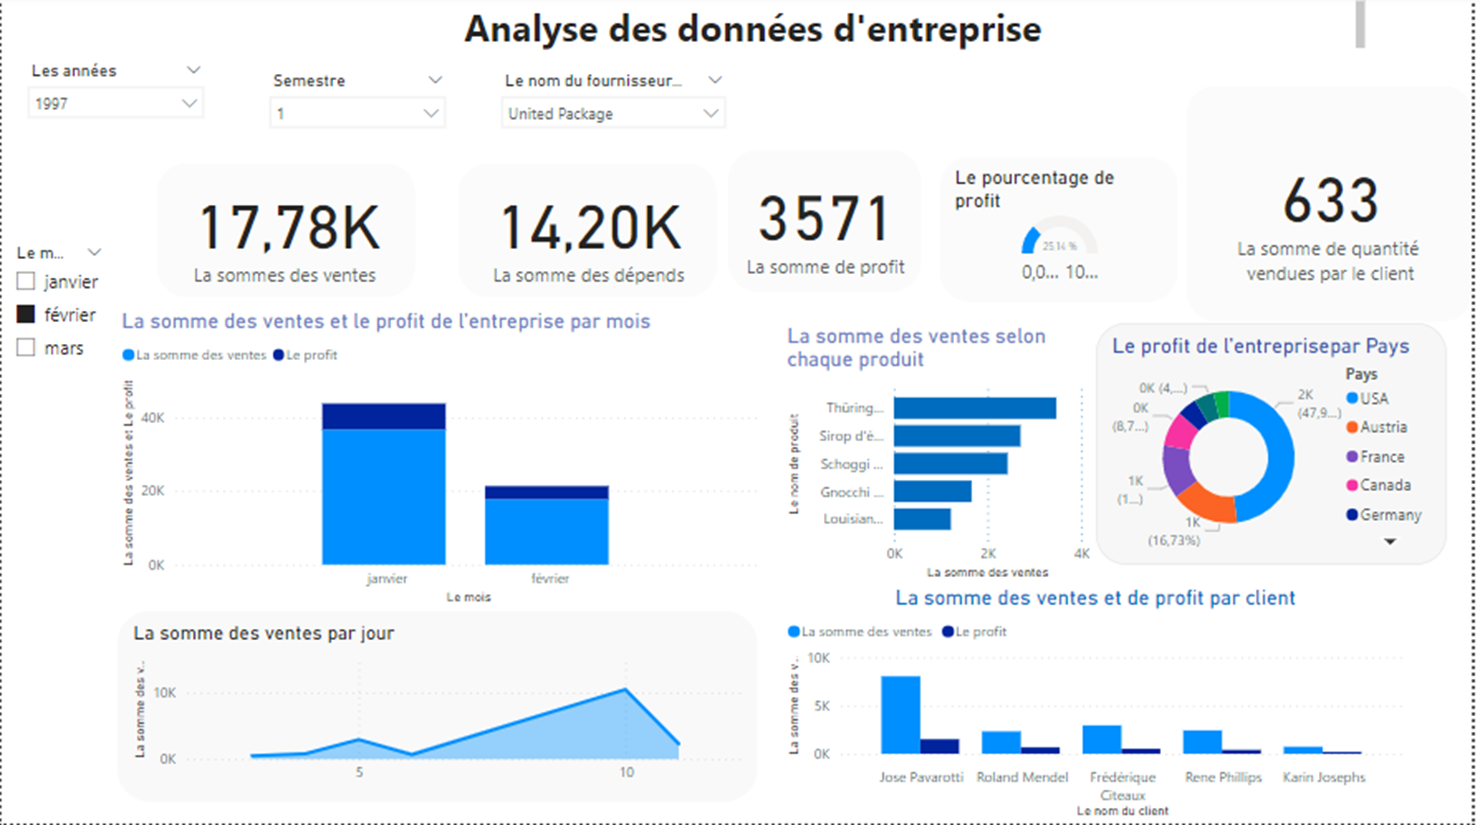

The page's visual inventory and layout, read from the dashboard file:
{"tool":"powerbi","page":{"name":"Page 2","canvas":[1280,720],"ordinal":0},"visuals":[{"type":"slicer","fields":{"Values":["dwolap temps_id.Year_id"]},"box":[13.3,51.7,173.3,81.7],"z":0},{"type":"slicer","fields":{"Values":["dwolap temps_id.Quarter"]},"box":[223.3,60,173.3,66.7],"z":1000},{"type":"slicer","fields":{"Values":["dwolap temps_id.Month_name"]},"box":[0,210,100,378.3],"z":2000},{"type":"slicer","fields":{"Values":["dwolap shippers.ShipperName"]},"box":[425,60,215,66.7],"z":3000},{"type":"card","fields":{"Values":["mesures.Total_sales"]},"box":[133.3,145,226.7,118.3],"z":4000},{"type":"gauge","fields":{"Y":["mesures.profit marge"]},"box":[830,130,208.3,128.3],"z":5000},{"type":"card","fields":{"Values":["mesures.profite"]},"box":[630,133.3,170,125],"z":6000},{"type":"card","fields":{"Values":["mesures.total_Costs"]},"box":[396.7,145,226.7,118.3],"z":7000},{"type":"card","fields":{"Values":["Sum(dwolap order_fact.qunProduit)"]},"box":[1053.3,130,226.7,133.3],"z":8000},{"type":"columnChart","fields":{"Category":["dwolap temps_id.Month_name"],"Y":["mesures.Total_sales","mesures.profite"]},"box":[100,271.7,566.7,261.7],"z":9000},{"type":"clusteredBarChart","fields":{"Category":["dwolap products.ProductName"],"Y":["mesures.Total_sales"]},"box":[678.3,285,273.3,228.3],"z":10000},{"type":"stackedAreaChart","fields":{"Y":["mesures.Total_sales"],"Category":["dwolap temps_id.Weakday_num"]},"box":[100,553.3,558.3,150],"z":12000},{"type":"donutChart","fields":{"Y":["mesures.profite"],"Category":["dwolap Geography.Country"]},"box":[951.7,285,305,210],"z":13000},{"type":"clusteredColumnChart","fields":{"Category":["dwolap customers.ContactName"],"Y":["mesures.Total_sales","mesures.profite"]},"box":[678.3,513.3,546.7,206.7],"z":13001}]}

Visuals, with their boxes in screenshot pixels (x1, y1, x2, y2), scaled from the page's 1280x720 canvas onto the 1480x825 screenshot:
slicer - dwolap temps_id.Year_id: bbox(15, 59, 216, 153)
slicer - dwolap temps_id.Quarter: bbox(258, 69, 459, 145)
slicer - dwolap temps_id.Month_name: bbox(0, 241, 116, 674)
slicer - dwolap shippers.ShipperName: bbox(491, 69, 740, 145)
card - mesures.Total_sales: bbox(154, 166, 416, 302)
gauge - mesures.profit marge: bbox(960, 149, 1201, 296)
card - mesures.profite: bbox(728, 153, 925, 296)
card - mesures.total_Costs: bbox(459, 166, 721, 302)
card - Sum(dwolap order_fact.qunProduit): bbox(1218, 149, 1479, 302)
columnChart - dwolap temps_id.Month_name x mesures.Total_sales: bbox(116, 311, 771, 611)
clusteredBarChart - dwolap products.ProductName x mesures.Total_sales: bbox(784, 327, 1100, 588)
stackedAreaChart - mesures.Total_sales x dwolap temps_id.Weakday_num: bbox(116, 634, 761, 806)
donutChart - mesures.profite x dwolap Geography.Country: bbox(1100, 327, 1453, 567)
clusteredColumnChart - dwolap customers.ContactName x mesures.Total_sales: bbox(784, 588, 1416, 824)
